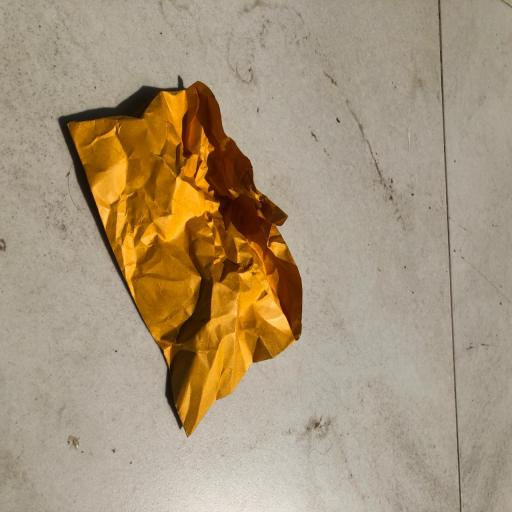waste: (56, 74, 320, 438)
